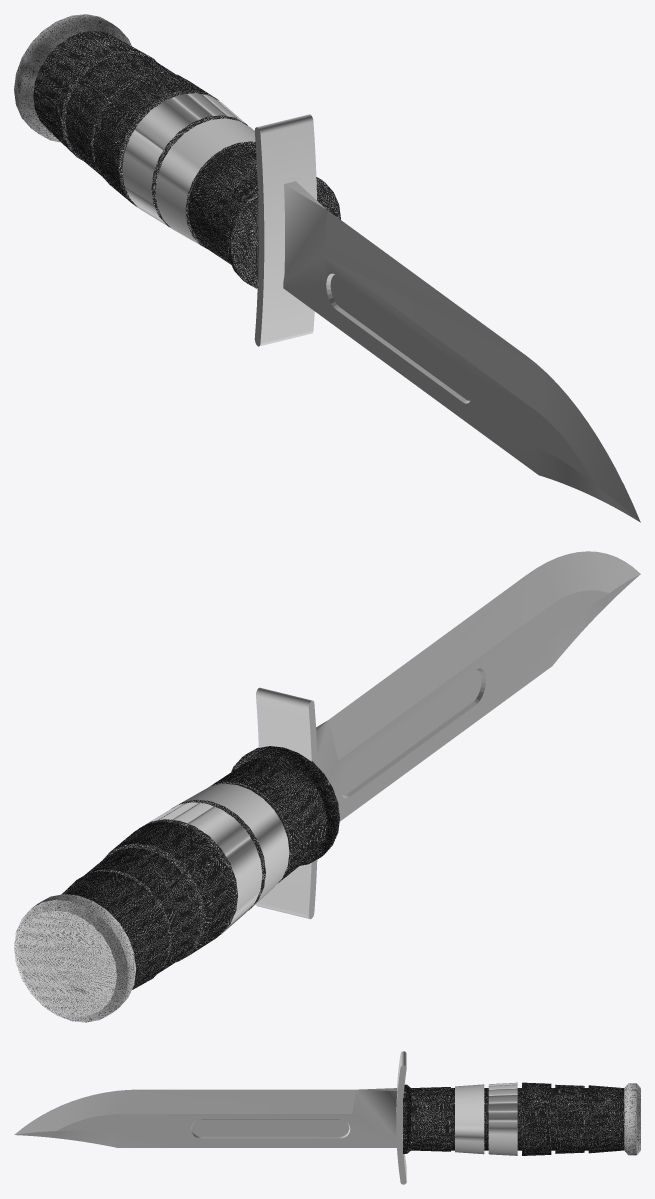
Rendered from model_align.obj.
The picture shows the model from 3 angles, top to bottom: view 1: azimuth 30°, elevation 25°; view 2: azimuth 150°, elevation 25°; view 3: azimuth 270°, elevation 25°; orthographic projection. The views are drawn at different scales.
Parts seen in each view (by area): view 1: mesh1_mesh1-geometry, mesh6_mesh6-geometry; view 2: mesh6_mesh6-geometry, mesh1_mesh1-geometry; view 3: mesh1_mesh1-geometry, mesh6_mesh6-geometry.
Boxes of the visible parts, x1,y1,x2,y2 form: mesh1_mesh1-geometry: [254, 114, 640, 522]; mesh6_mesh6-geometry: [14, 14, 340, 289]; mesh6_mesh6-geometry: [14, 746, 339, 1022]; mesh1_mesh1-geometry: [256, 551, 640, 919]; mesh1_mesh1-geometry: [14, 1051, 406, 1184]; mesh6_mesh6-geometry: [403, 1082, 640, 1155].
Bounding box in the file's own units: 0.0252 × 0.0451 × 0.2147.
